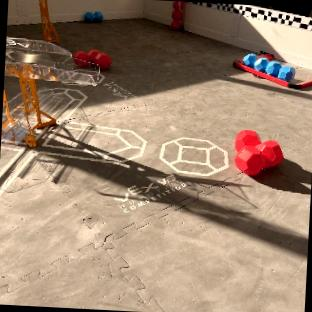V5_RED: (232, 129, 283, 174), (74, 49, 110, 69)
